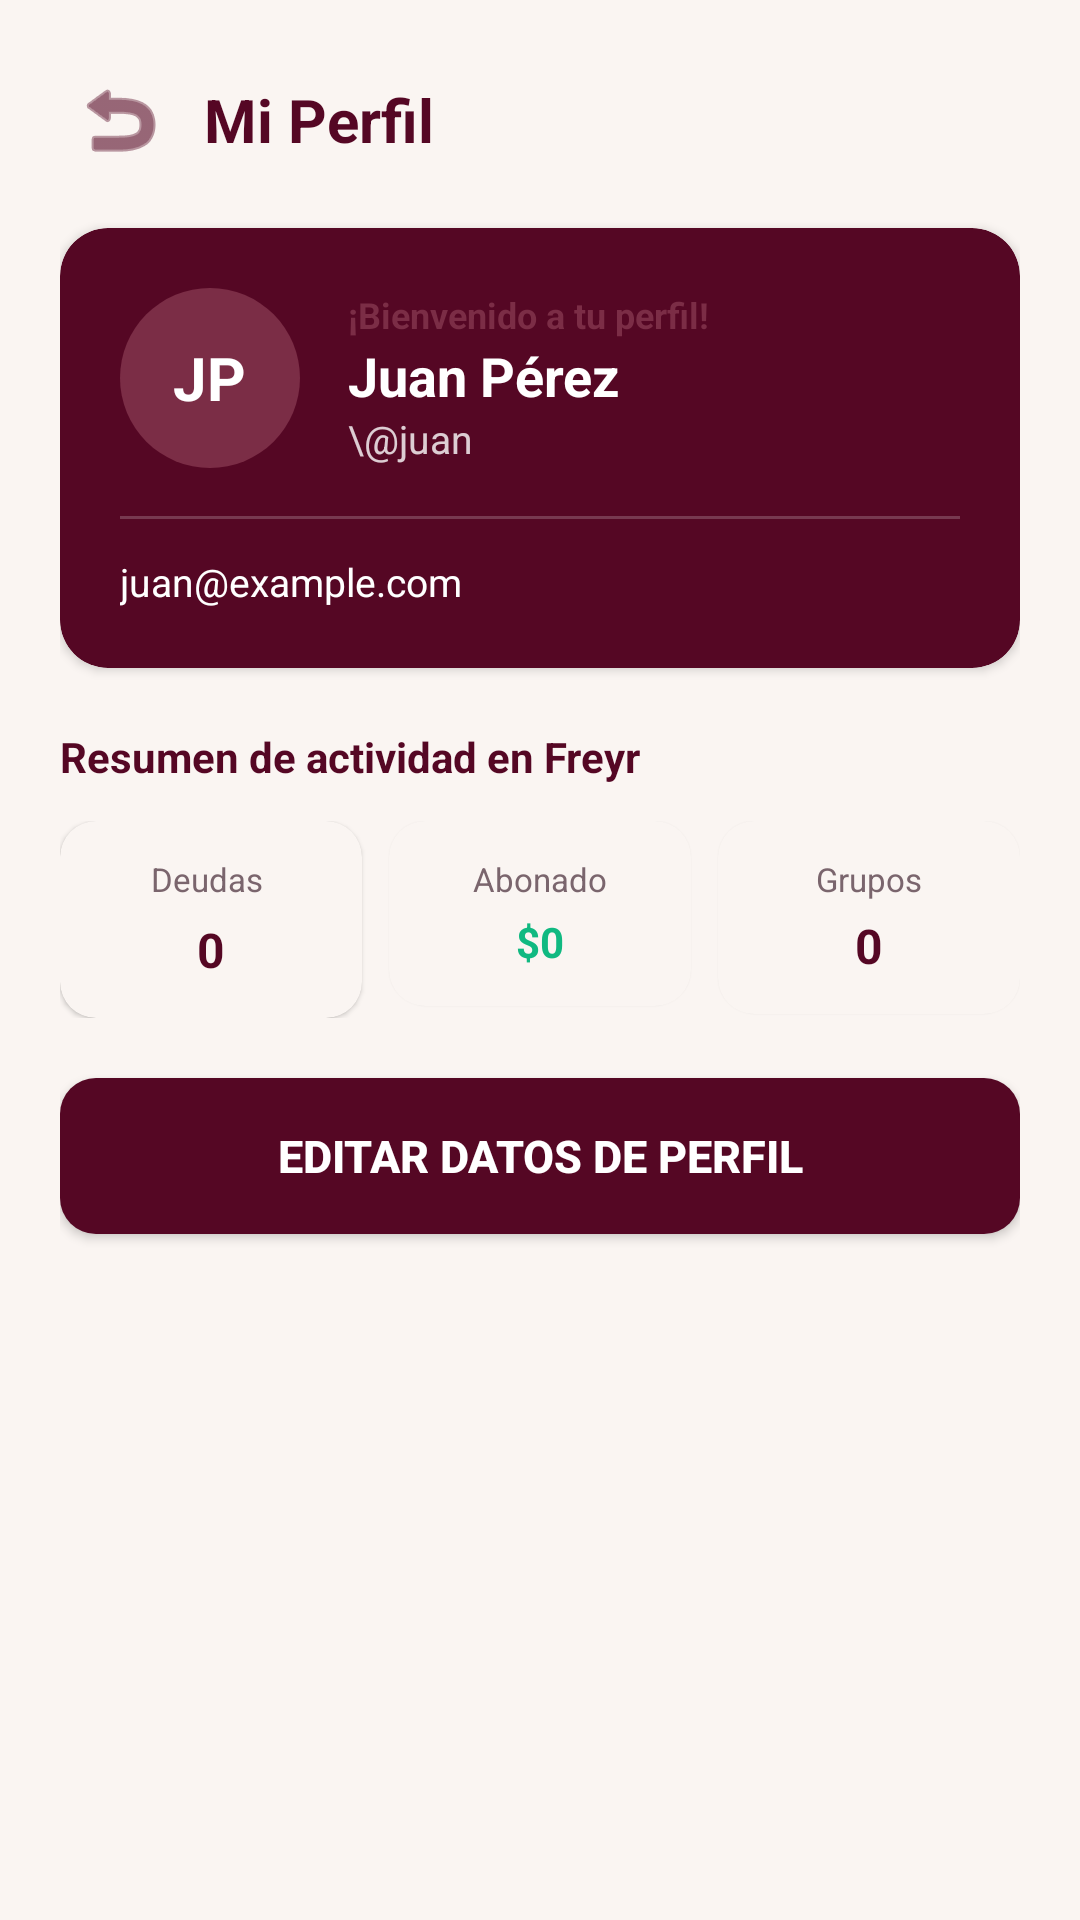

Where icons sit on this 1080 x 1920 app screen, as (x1, y1, x2, y2):
Volver: (87, 89, 156, 152)
